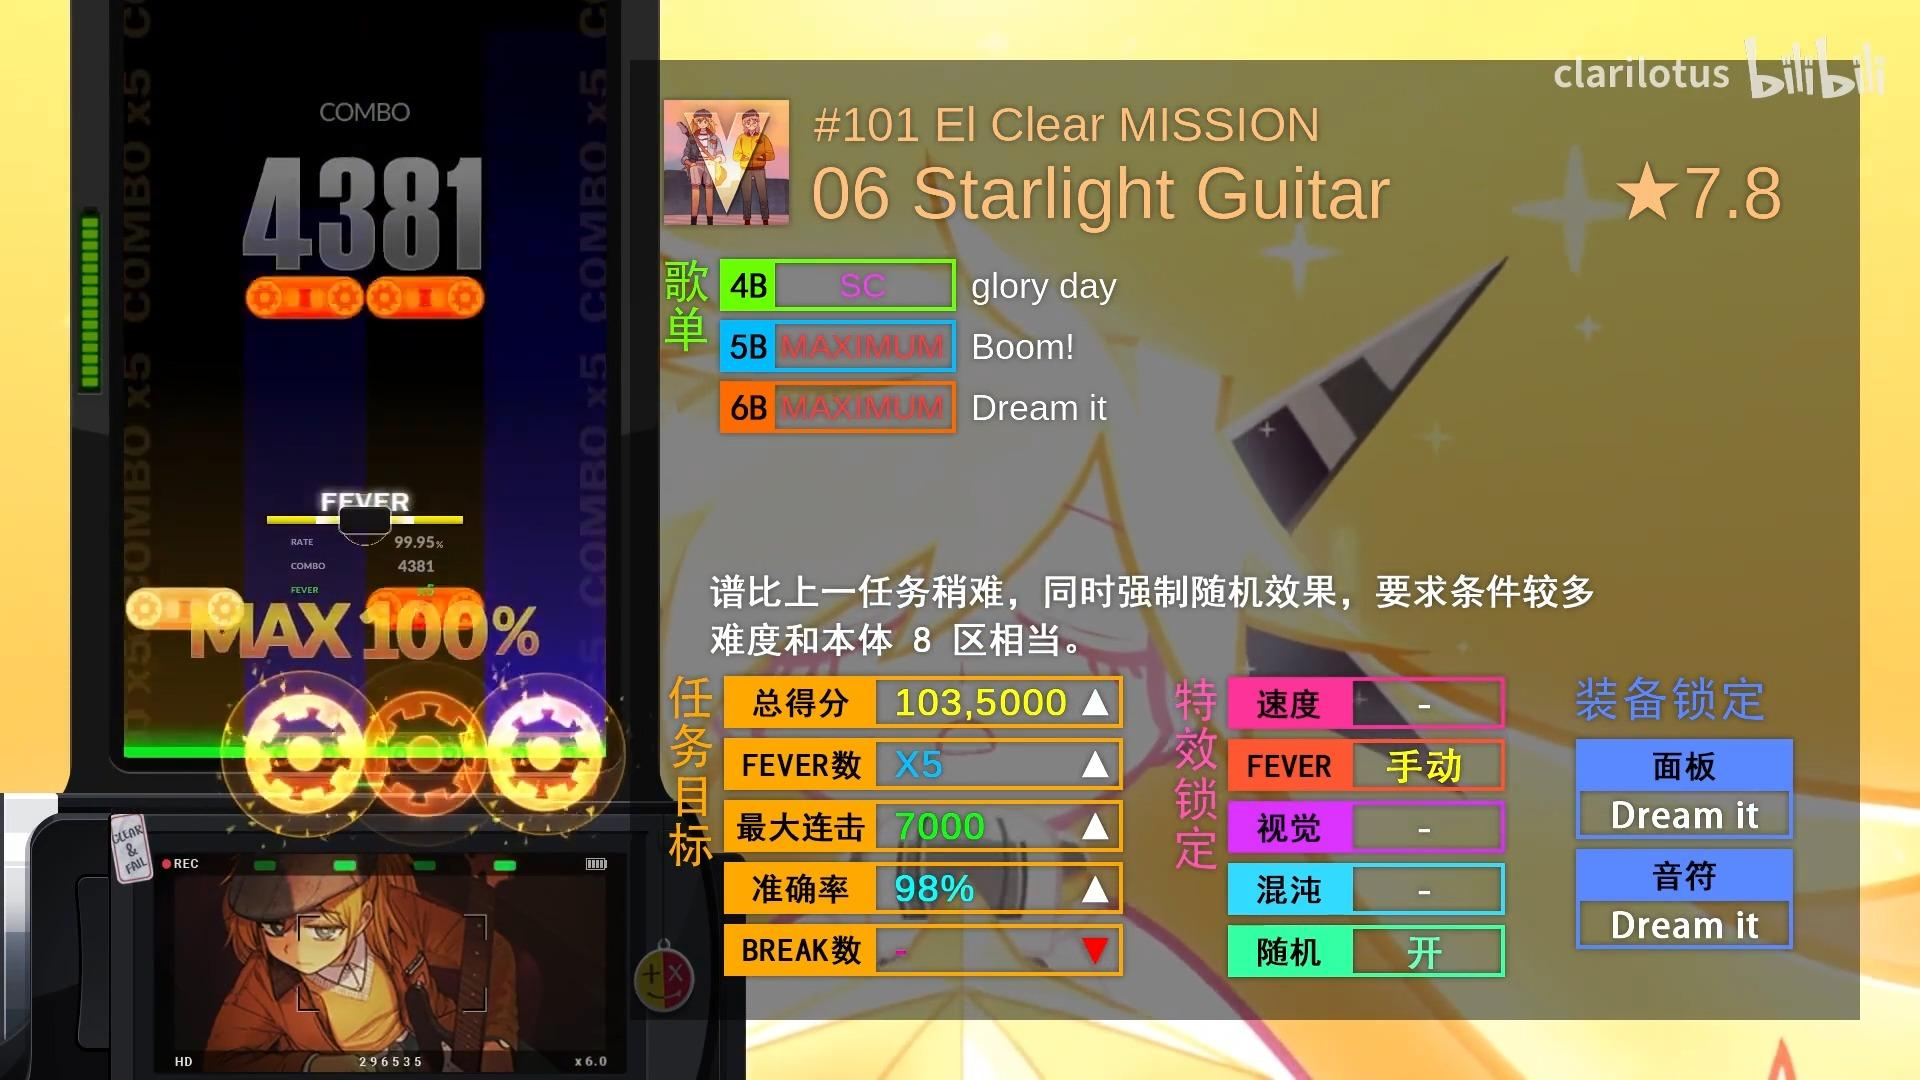note: (125, 587, 244, 632), (365, 276, 485, 319), (365, 587, 487, 629), (247, 276, 364, 319)
